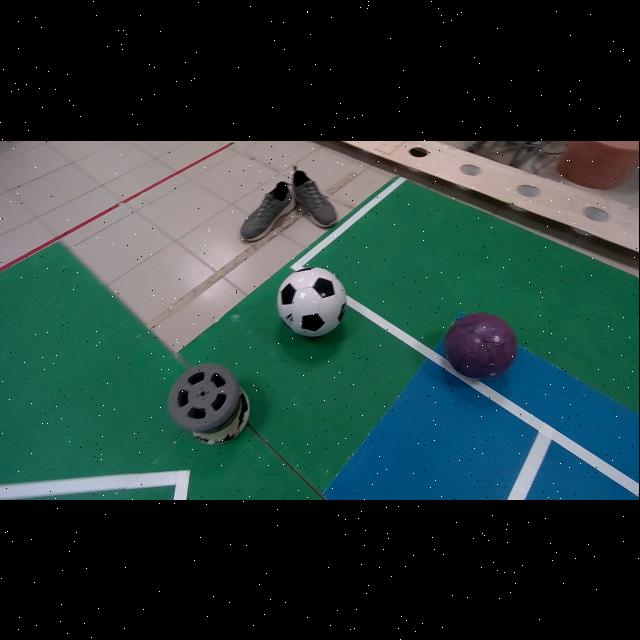P: (445, 311, 518, 378)
